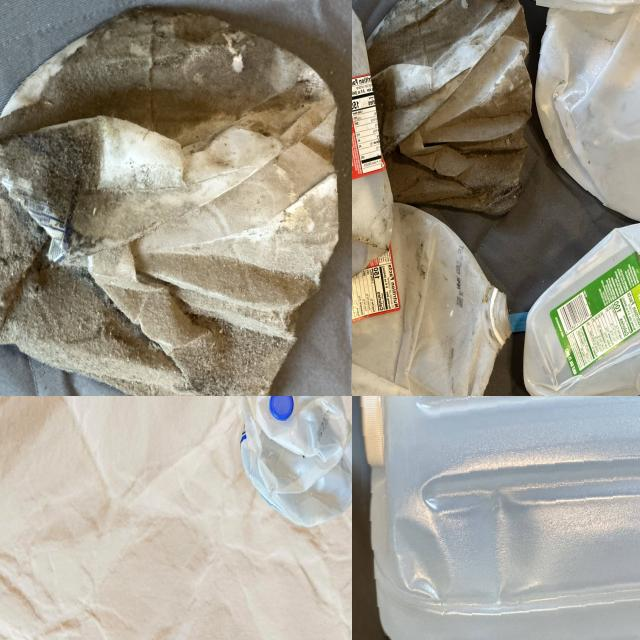milk-jug: (0, 2, 349, 396), (358, 396, 640, 640), (357, 0, 533, 203), (352, 202, 510, 396), (537, 0, 640, 204), (531, 223, 640, 396), (241, 396, 352, 540), (352, 0, 380, 271)
